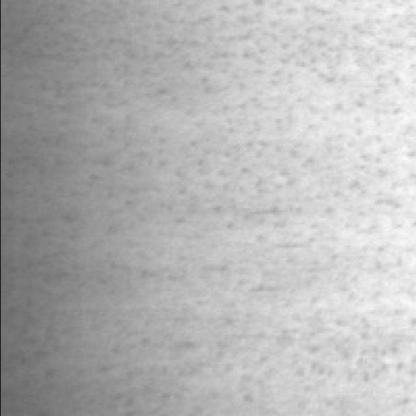pitted_surface: (0, 0, 410, 408)
